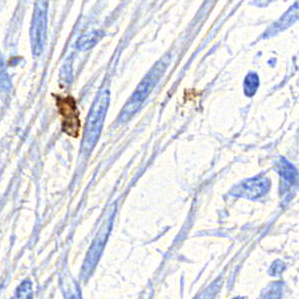Lymphocyte: (54, 91, 84, 138)
